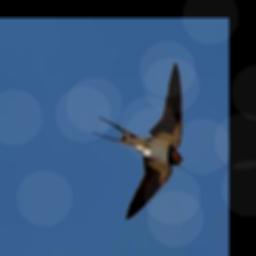Swallow: (93, 62, 184, 218)
